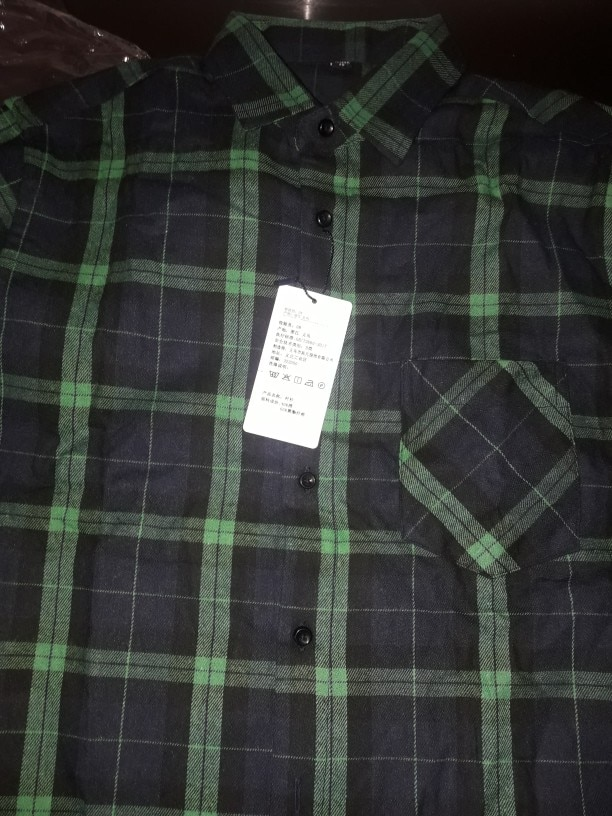shirts: (37, 24, 612, 806)
